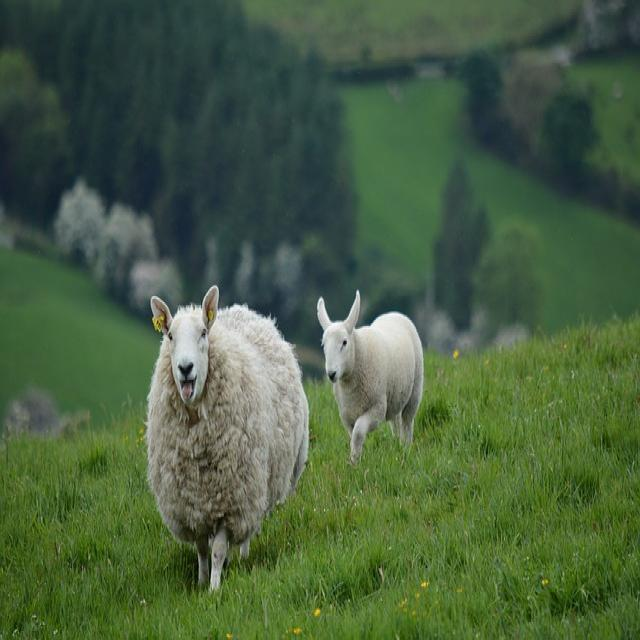goat: (144, 288, 311, 593), (315, 296, 426, 461)
